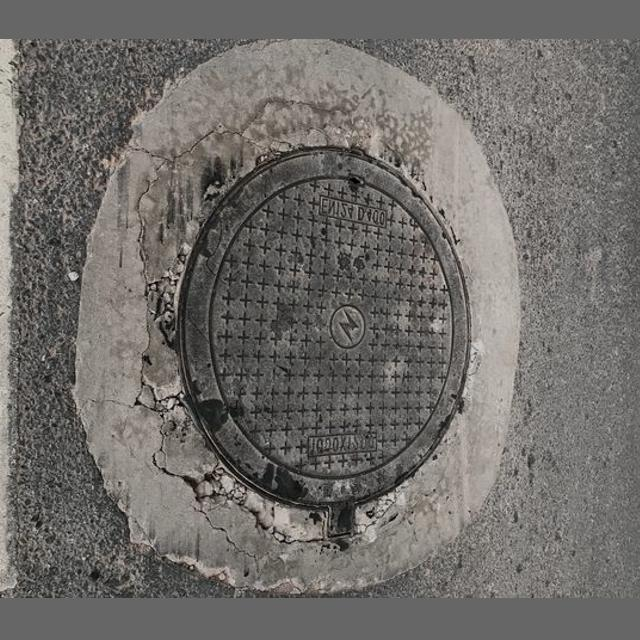circle: (77, 53, 518, 586)
